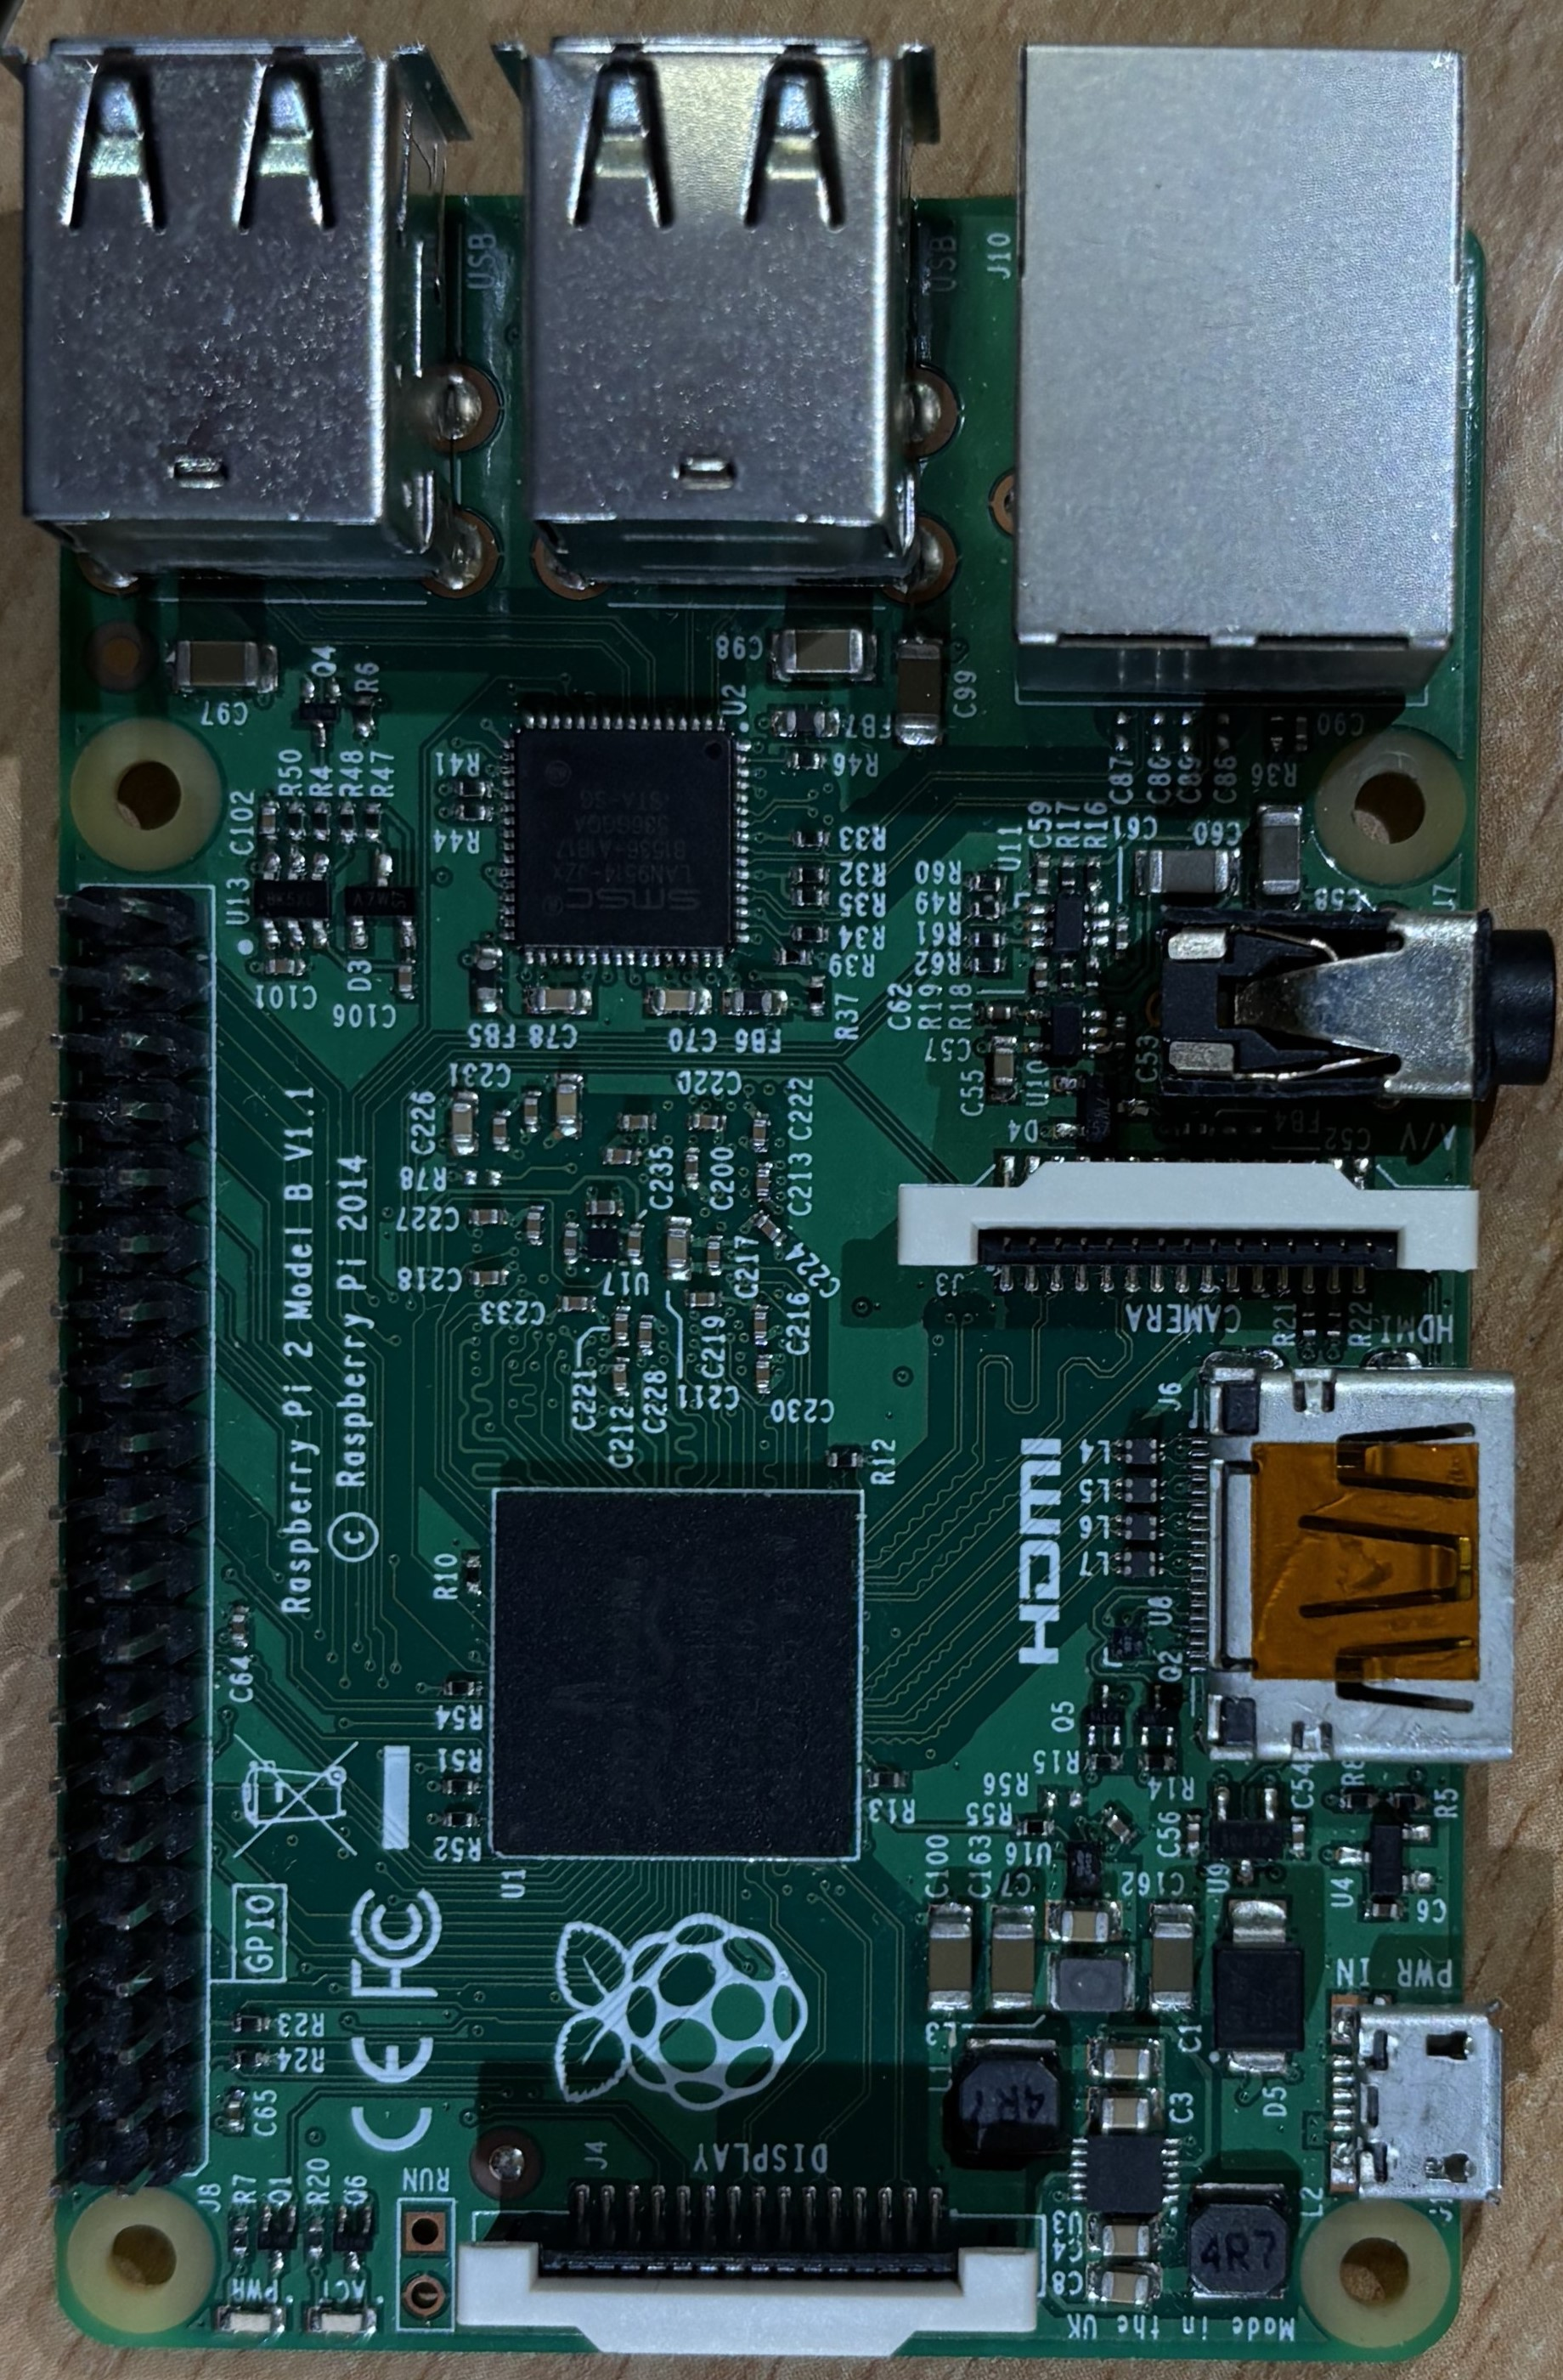Induktor: (956, 2041, 1064, 2151), (1186, 2186, 1286, 2296), (1050, 1954, 1129, 2010), (1113, 1549, 1165, 1577), (1115, 1438, 1165, 1466), (1115, 1476, 1165, 1502), (1115, 1515, 1165, 1539)
